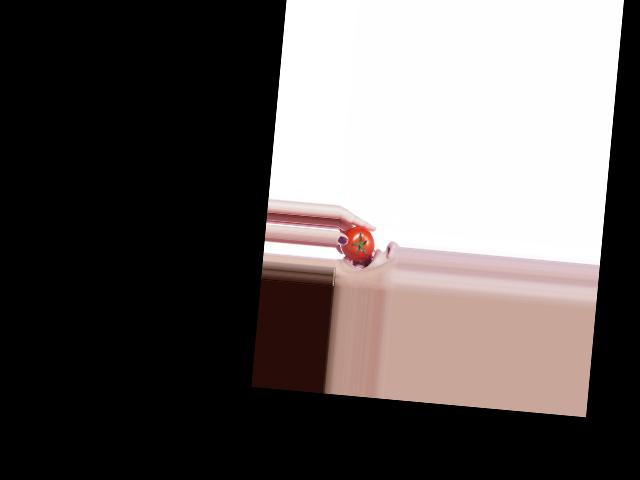tomato: (338, 224, 375, 261)
